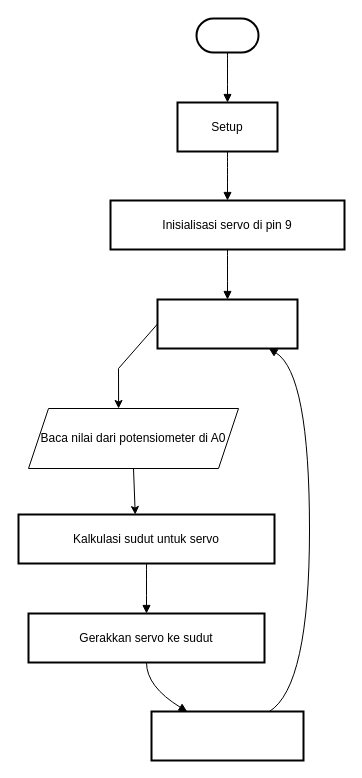
This 362x778 diagram has some shape labels left out. The shapes that lost their labels are listed below. From the top down, each one's centre as x and y in pixels, then its label:
point (227, 35): Mulai
point (227, 323): Ulangi loop
point (227, 735): Tunggu 15ms
